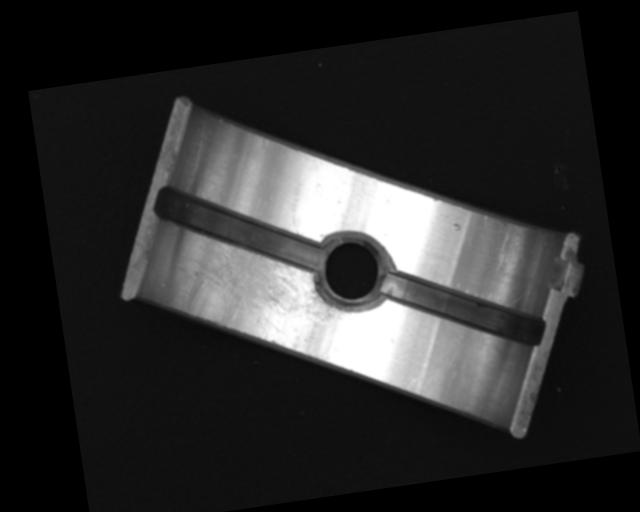bruise: (450, 221, 462, 232)
gap: (155, 167, 322, 289), (380, 252, 545, 365)
hole: (312, 228, 392, 316)
nick: (490, 224, 519, 272)
scratch: (182, 218, 351, 372)
